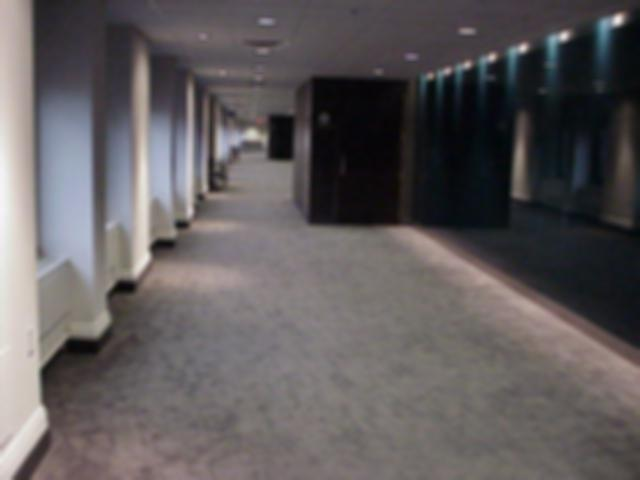Puerta: (332, 104, 403, 226)
